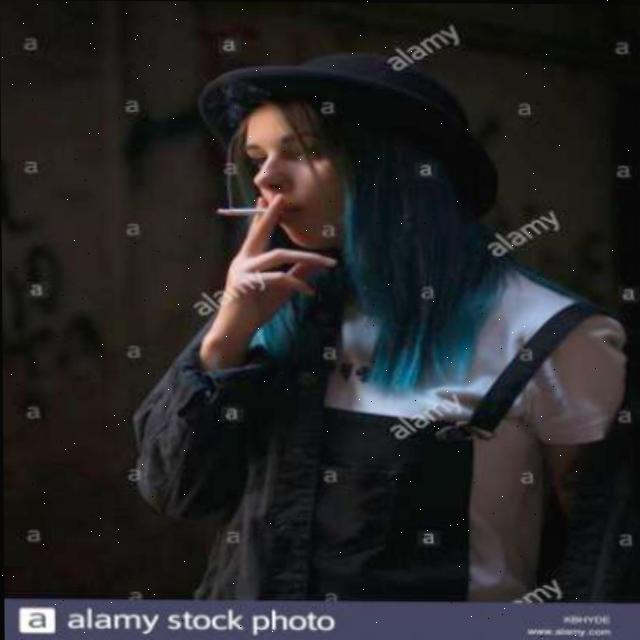cigarette: (214, 205, 269, 216)
